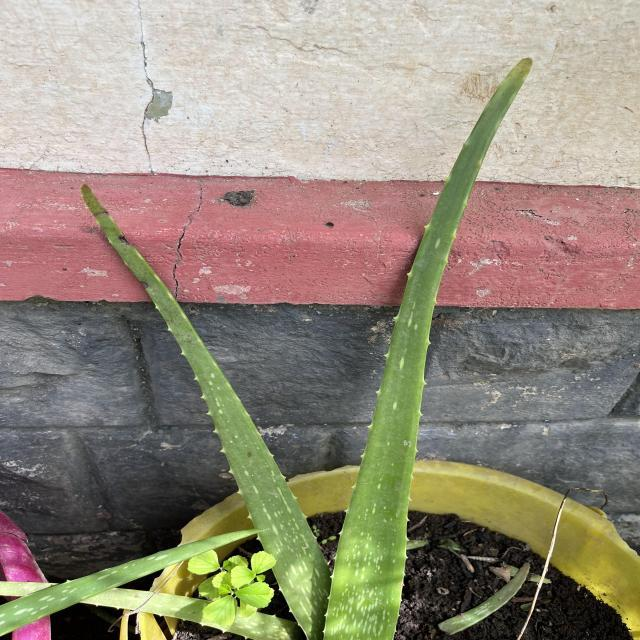Aloe vera: (324, 51, 540, 640)
